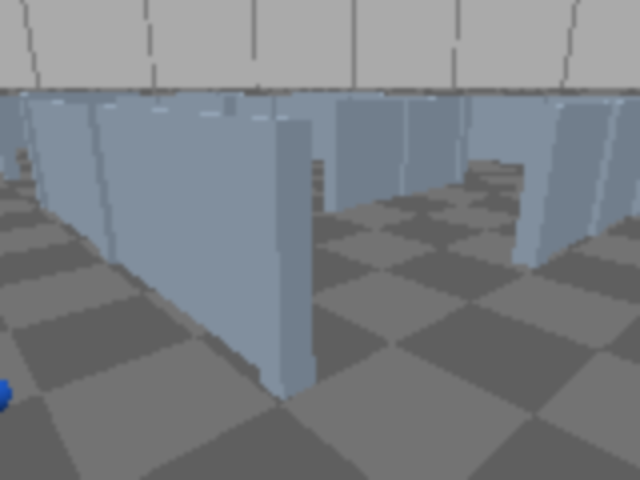puck: (0, 366, 24, 431)
